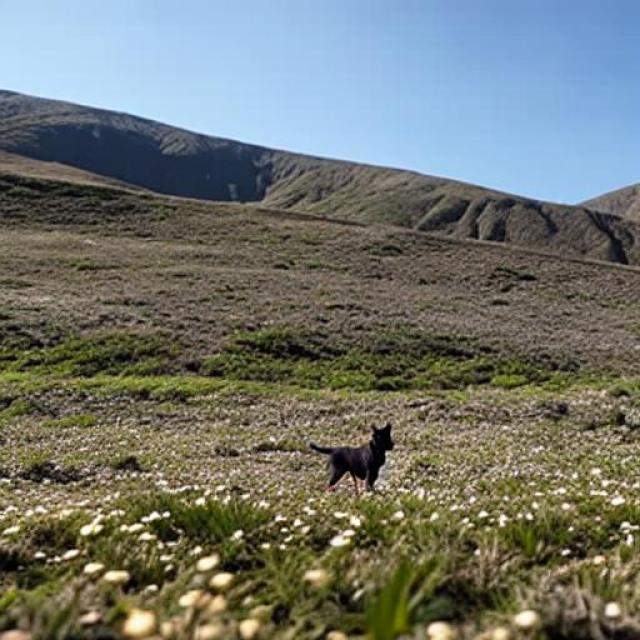Dog: (308, 422, 396, 494)
